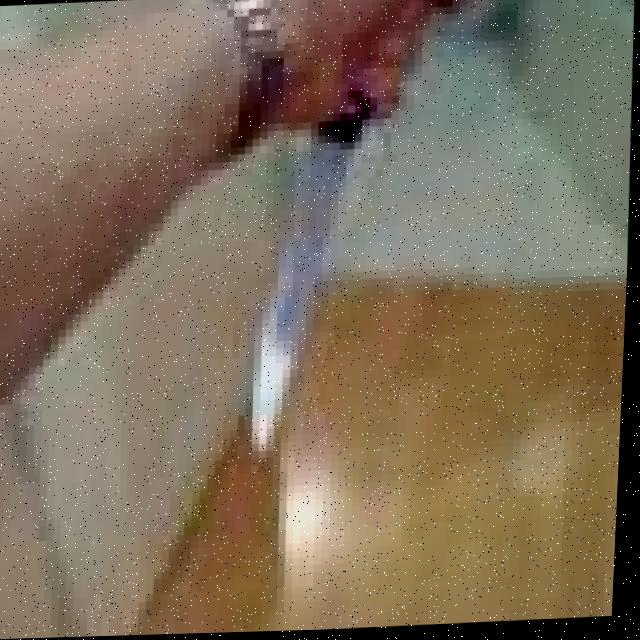knife: (248, 131, 442, 468)
